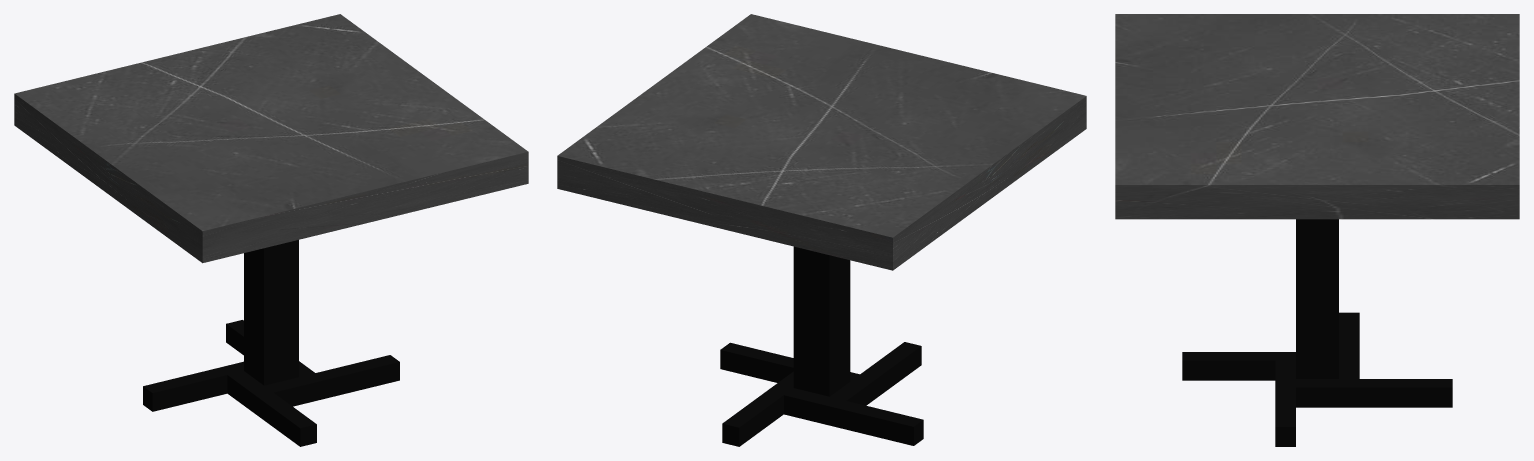
File: mesaCfeteria.fbx
The picture shows the model from 3 angles, left to right: view 1: azimuth 30°, elevation 25°; view 2: azimuth 150°, elevation 25°; view 3: azimuth 270°, elevation 25°; orthographic projection. The views are drawn at different scales.
Visible parts, largest first — view 1: Cube; view 2: Cube; view 3: Cube.
Part boxes in pixels (x1=…): Cube: x1=14, y1=14, x2=528, y2=446; Cube: x1=557, y1=14, x2=1086, y2=446; Cube: x1=1115, y1=14, x2=1519, y2=446.
Bounding box in the file's own units: 159 × 126 × 159.
Materials: 2 (1 with a texture image).
